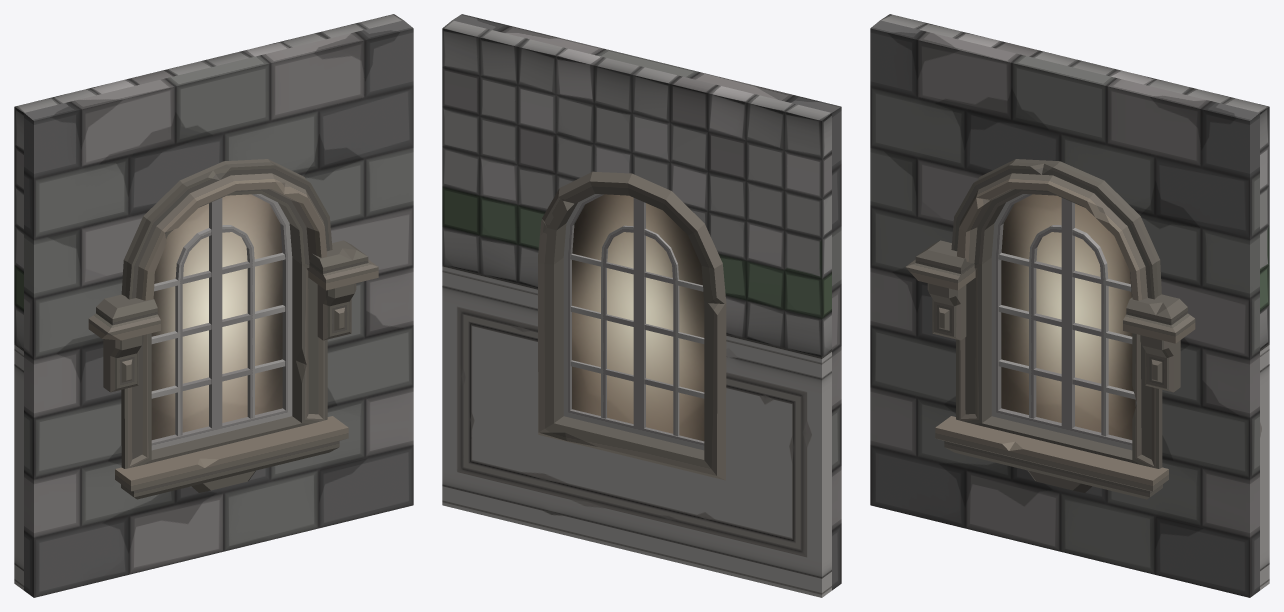
Rendered from SM_Bld_Wall_Window_03.fbx.
3 renders of one model, left to right at view 1: azimuth 30°, elevation 25°; view 2: azimuth 150°, elevation 25°; view 3: azimuth 330°, elevation 25°, orthographic.
Visible parts, largest first — view 1: SM_Bld_Wall_Window_03; view 2: SM_Bld_Wall_Window_03; view 3: SM_Bld_Wall_Window_03.
Boxes of the visible parts, left/top/right/bottom form: SM_Bld_Wall_Window_03: left=14, top=14, right=413, bottom=597; SM_Bld_Wall_Window_03: left=442, top=14, right=841, bottom=597; SM_Bld_Wall_Window_03: left=870, top=14, right=1269, bottom=597.
Size of the model in its own units: 250 by 301 by 49.91.
